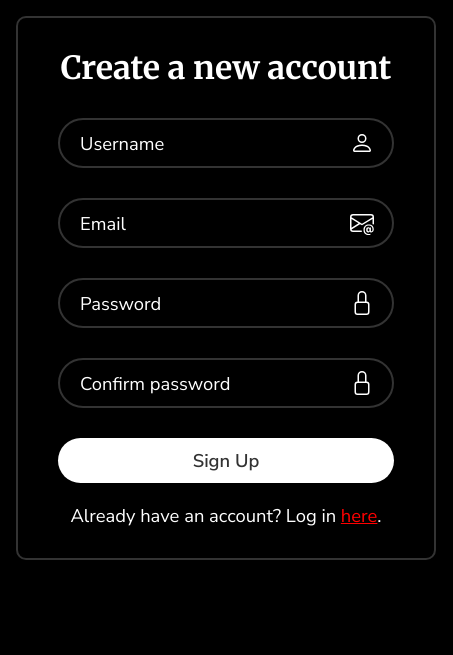
Test: sign up › success › shows success message on successful registration
Type "username" into the field with placeholder "Username" at point(226, 143), box [58,118,394,168]
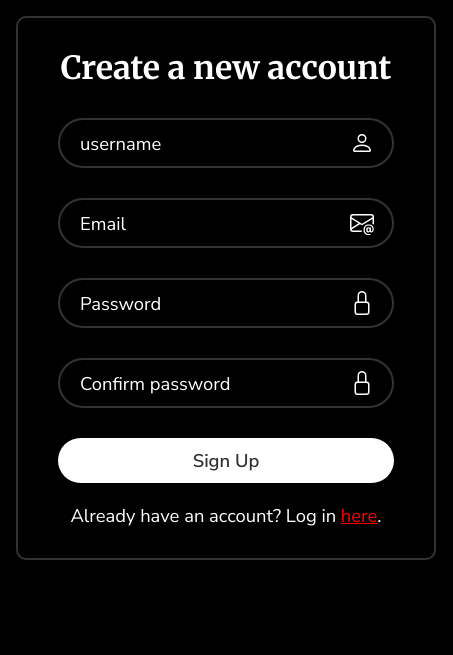
Type "goodemail@gmail.com" into the field with placeholder "Email" at point(226, 223), box [58,198,394,248]
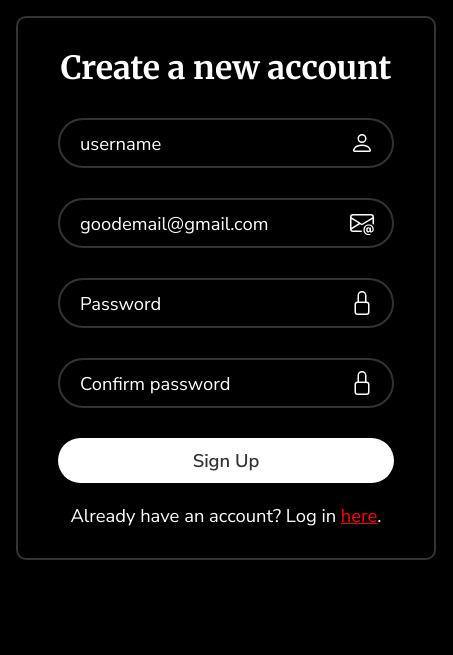
Type "password" into the password field with placeholder "Password" at point(226, 303), box [58,278,394,328]
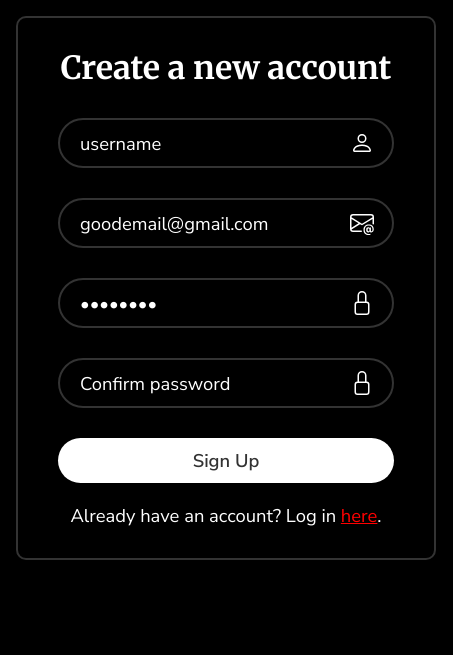
Type "password" into the password field with placeholder "Confirm password" at point(226, 383), box [58,358,394,408]
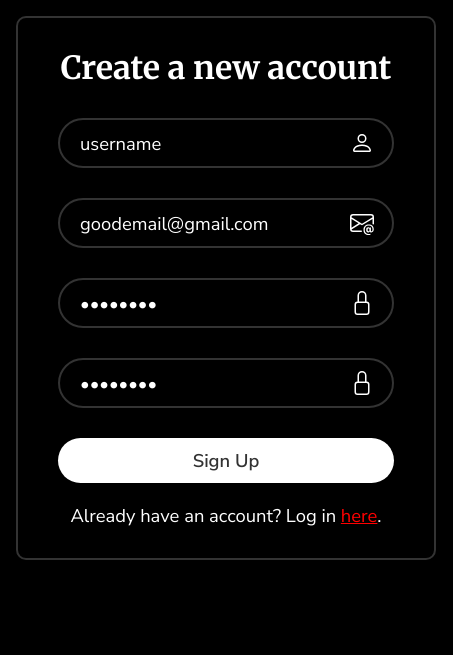
Click the button with test id "sign-up-button" at point(226, 460), box [58,438,394,483]
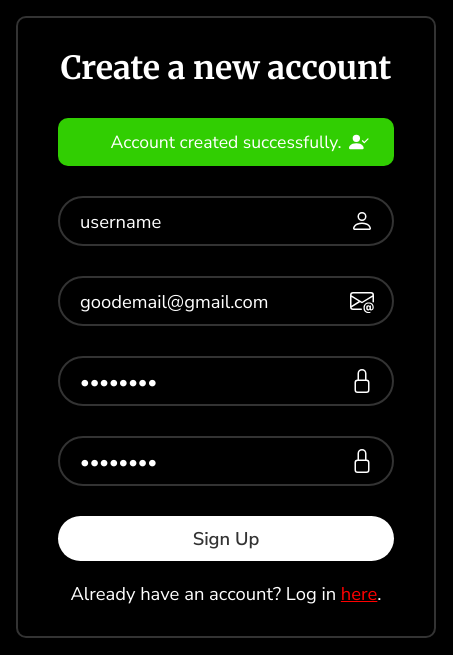
Result: the text "Account created successfully." is shown at [80,130,372,154]
